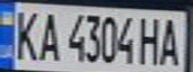0: (100, 11, 118, 64)
3: (81, 11, 103, 64)
4: (115, 12, 139, 65), (63, 9, 84, 63)
A: (33, 8, 63, 62), (157, 14, 184, 66)
H: (136, 14, 163, 65)
K: (9, 6, 42, 62)
